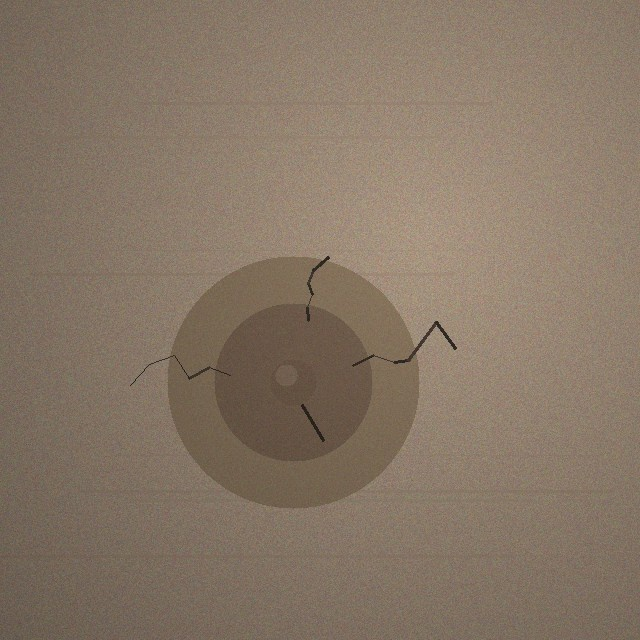crack: (167, 256, 419, 508)
